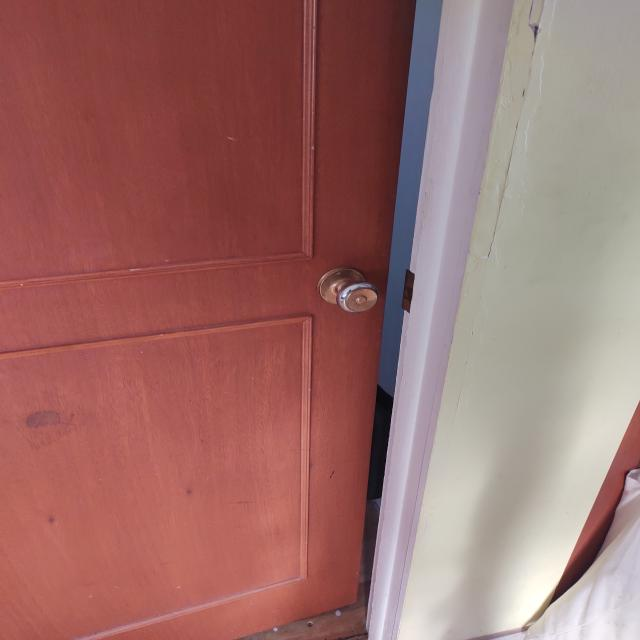door-knob: (317, 268, 379, 312)
